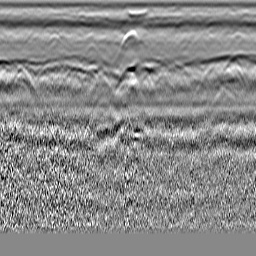cavity: (118, 30, 140, 50)
